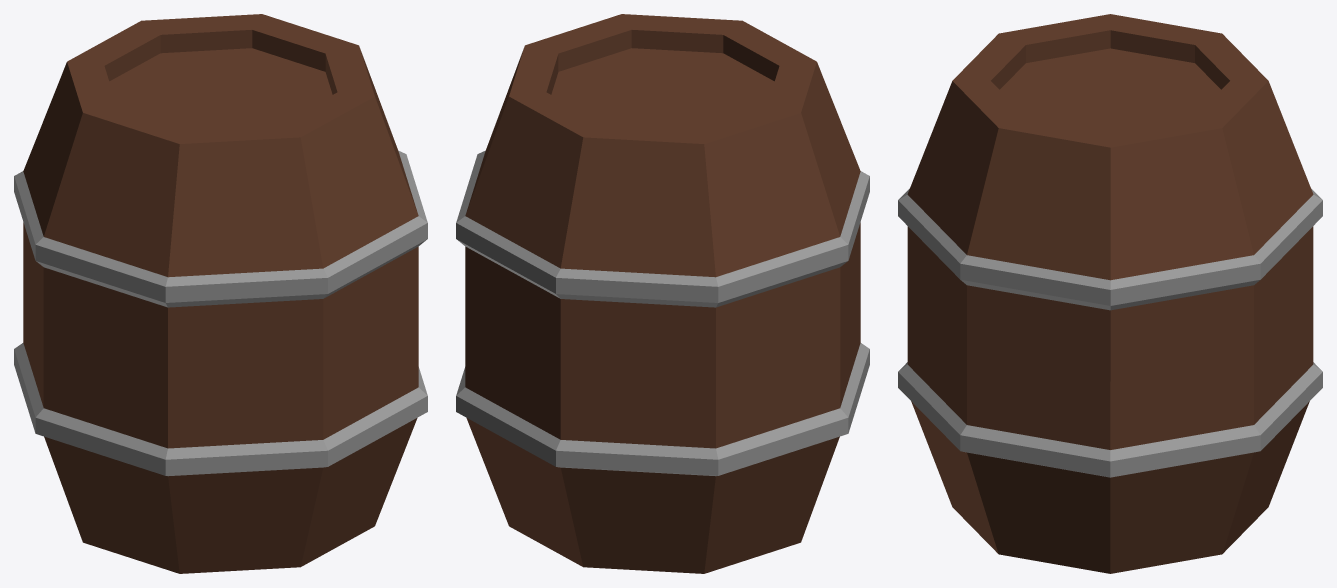
Rendered from Barrel.fbx.
3 views of the same model, side by side, from view 1: azimuth 30°, elevation 25°; view 2: azimuth 150°, elevation 25°; view 3: azimuth 270°, elevation 25° (orthographic).
Parts seen in each view (by area): view 1: Barrel; view 2: Barrel; view 3: Barrel.
Boxes of the visible parts, <box> form: Barrel: <box>14,14,427,573</box>; Barrel: <box>456,14,869,573</box>; Barrel: <box>898,14,1322,573</box>.
Bounding box in the file's own units: 0.4781 × 0.5294 × 0.4781.
Materials: 1 (1 with a texture image).
